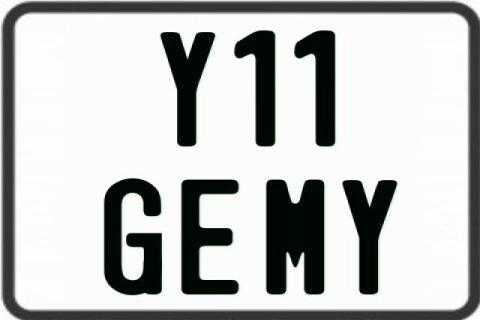0: (232, 30, 278, 146), (292, 29, 336, 145)
E: (182, 178, 242, 298)
G: (104, 176, 164, 293)
M: (265, 180, 329, 298)
Y: (161, 30, 219, 148), (342, 177, 398, 297)
